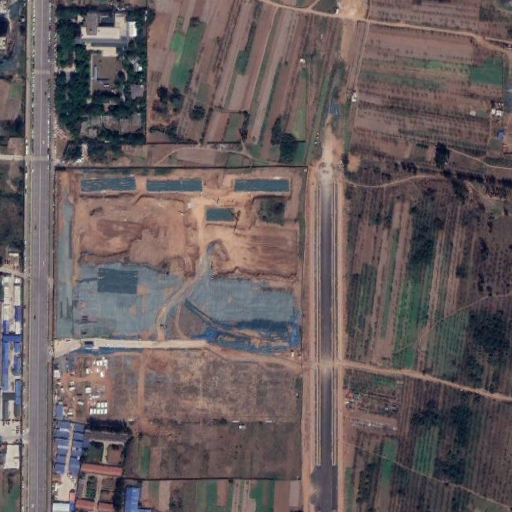cw: (45, 170, 303, 351)
